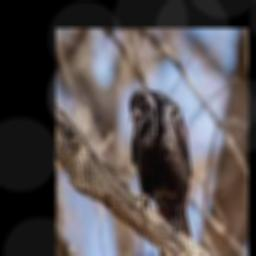Crow: (129, 87, 193, 256)
